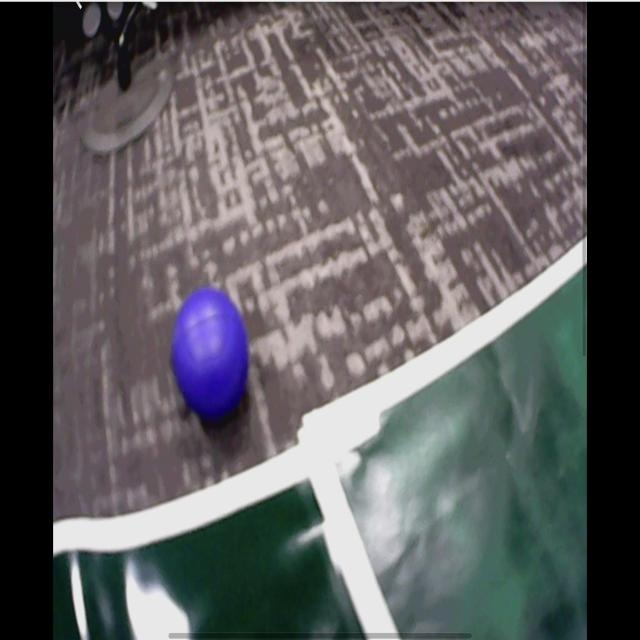ball: (171, 289, 249, 416)
